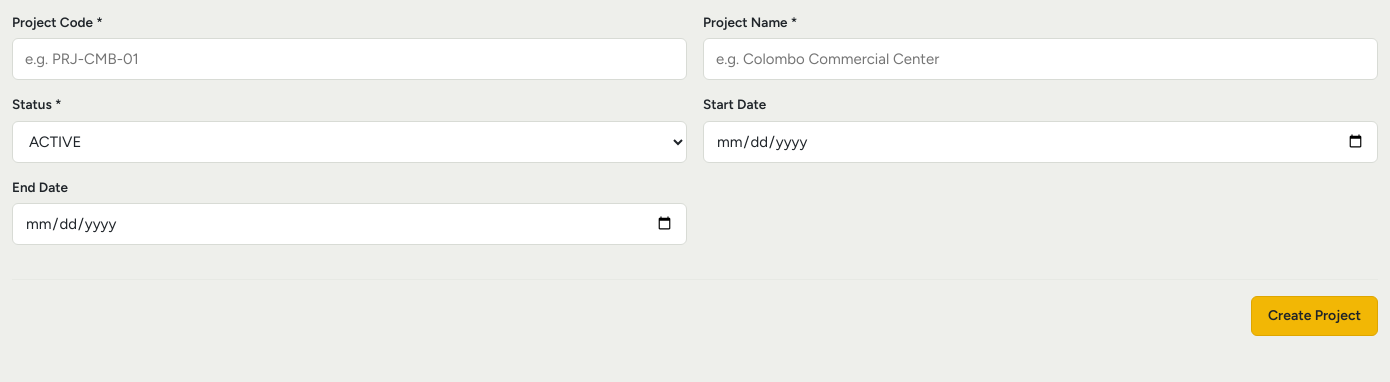
Test: ProjectForm (AESCS-44) › rejects submission when end date precedes start date
Type "PRJ-TEST-01" into the field labelled "Project Code *" at (350, 59), box x1=12 y1=38 x2=687 y2=80
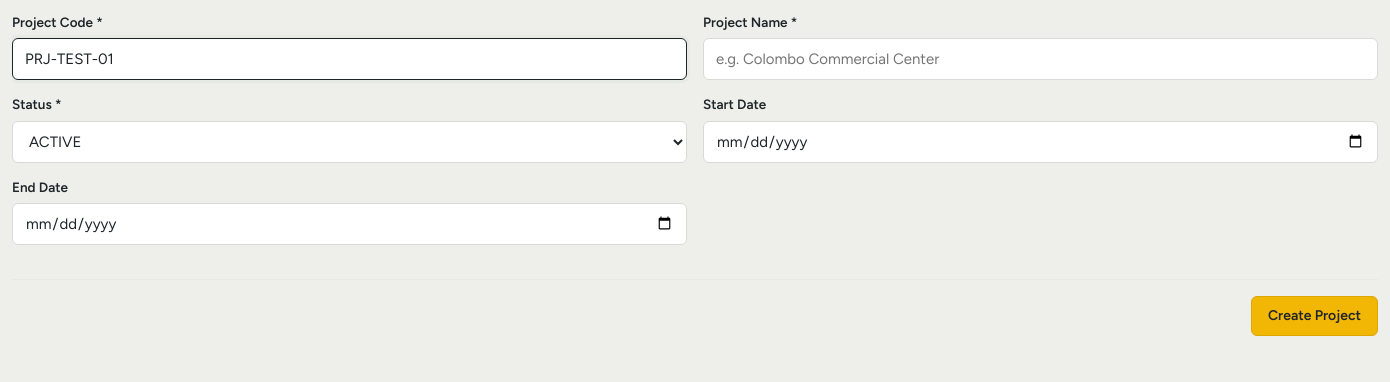
Type "Test Project" into the field labelled "Project Name *" at (1040, 59), box x1=703 y1=38 x2=1378 y2=80
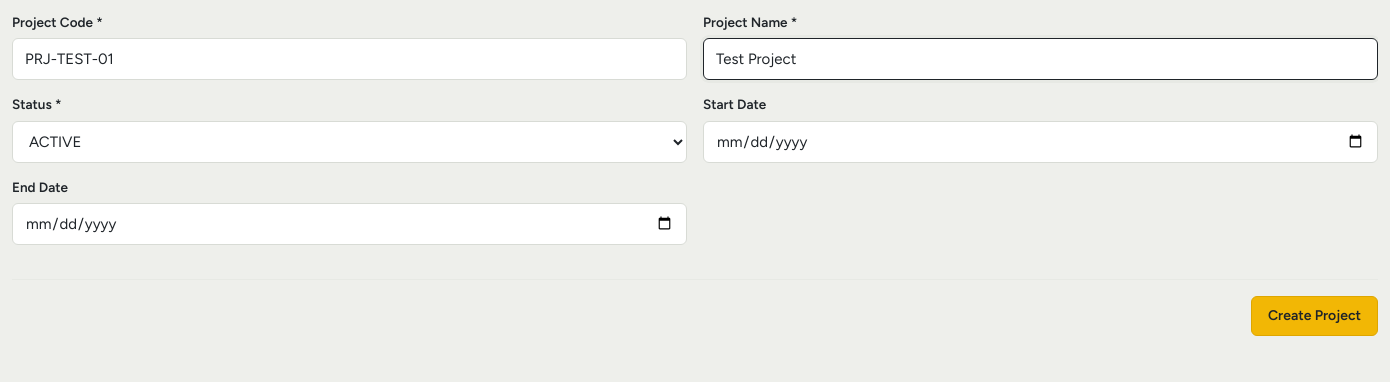
Type "2026-06-01" into the date field labelled "Start Date" at (1040, 142), box x1=703 y1=120 x2=1378 y2=162
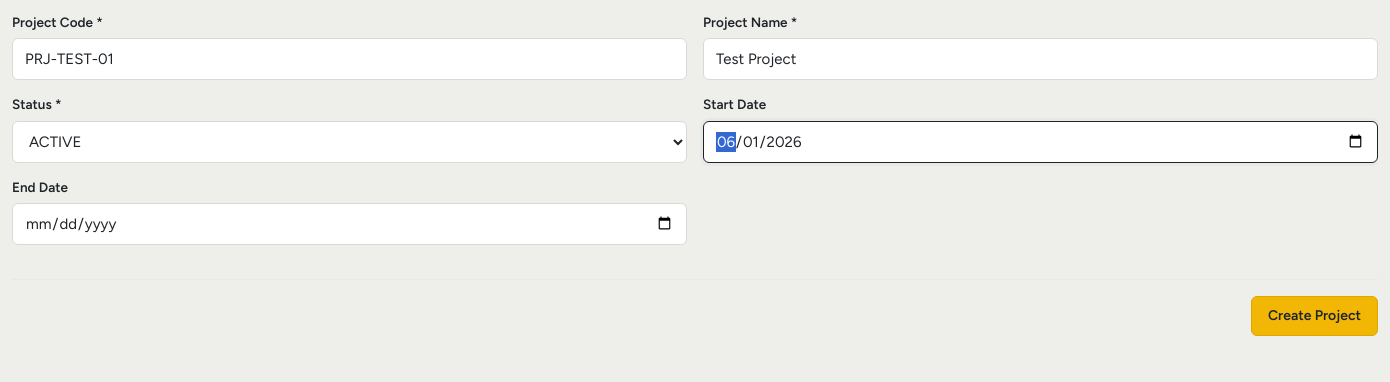
Type "2026-05-01" into the date field labelled "End Date" at (350, 224), box x1=12 y1=203 x2=687 y2=245
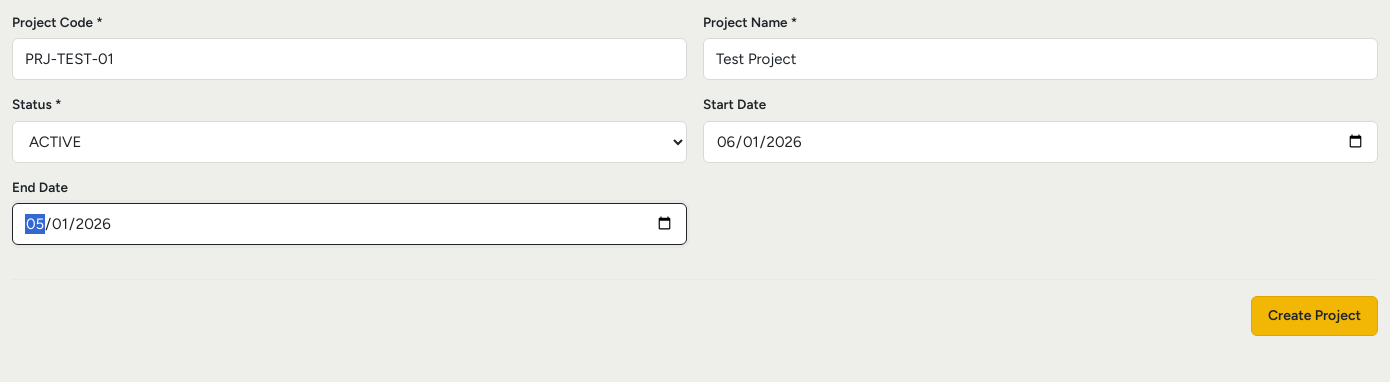
Click the button "Create Project" at (1314, 316), box x1=1251 y1=296 x2=1378 y2=336
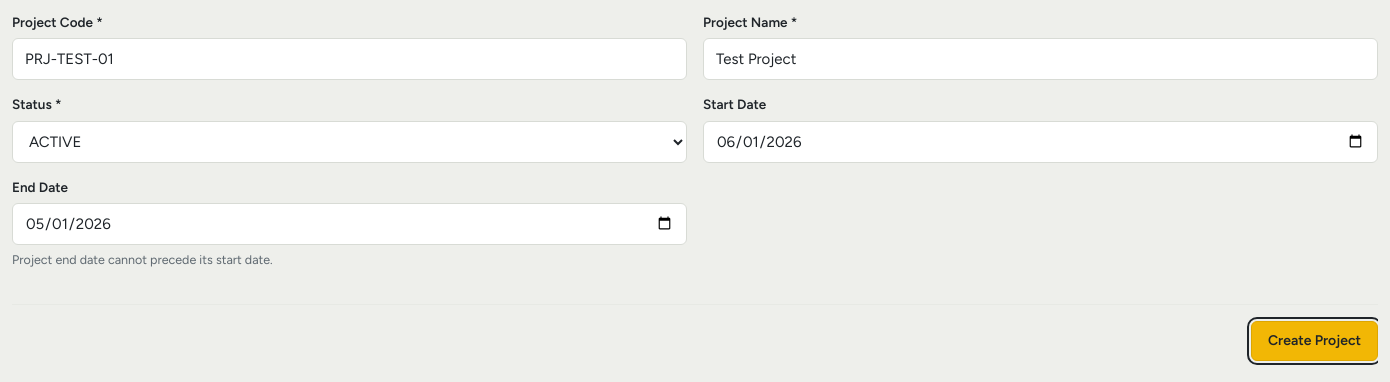
Expected: the text "Project end date cannot precede its start date." is shown, x1=12 y1=252 x2=273 y2=267
